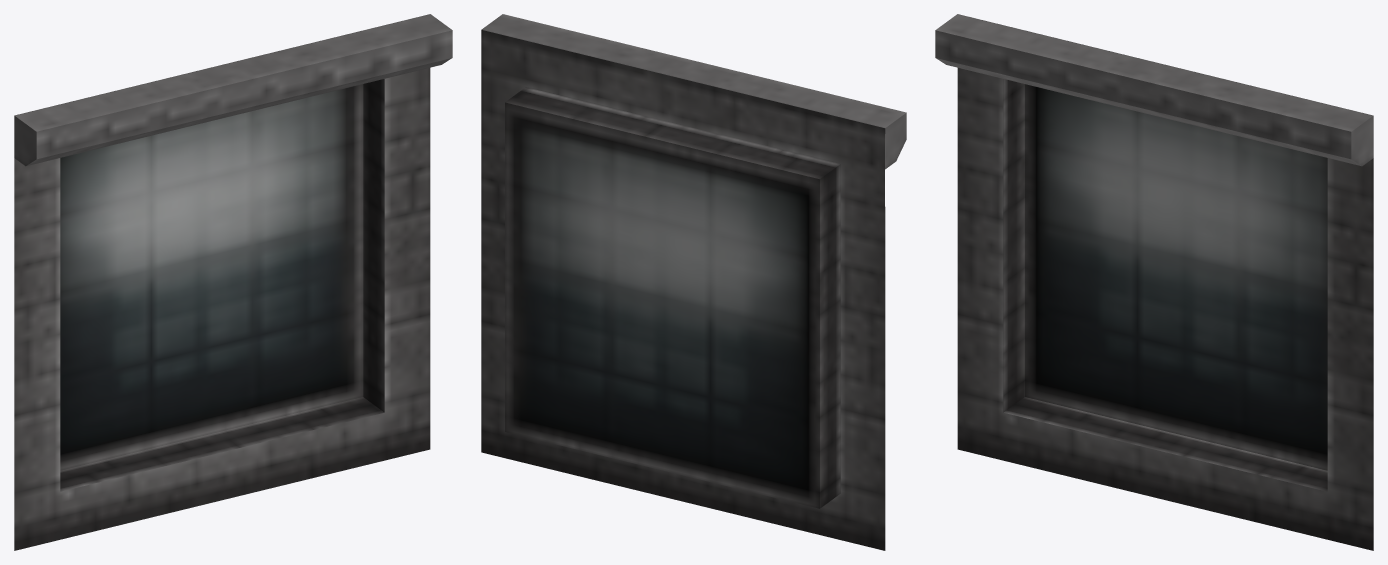
The model's file is B6_Store.FBX.
3 views of the same model, side by side, from view 1: azimuth 30°, elevation 25°; view 2: azimuth 150°, elevation 25°; view 3: azimuth 330°, elevation 25° (orthographic). The views are drawn at different scales.
Parts seen in each view (by area): view 1: B6_Store; view 2: B6_Store; view 3: B6_Store.
Boxes of the visible parts, x1,y1,x2,y2 form: B6_Store: (14,14,452,550); B6_Store: (481,14,906,550); B6_Store: (935,14,1373,550).
Bounding box in the file's own units: 4 × 4 × 0.7269.
